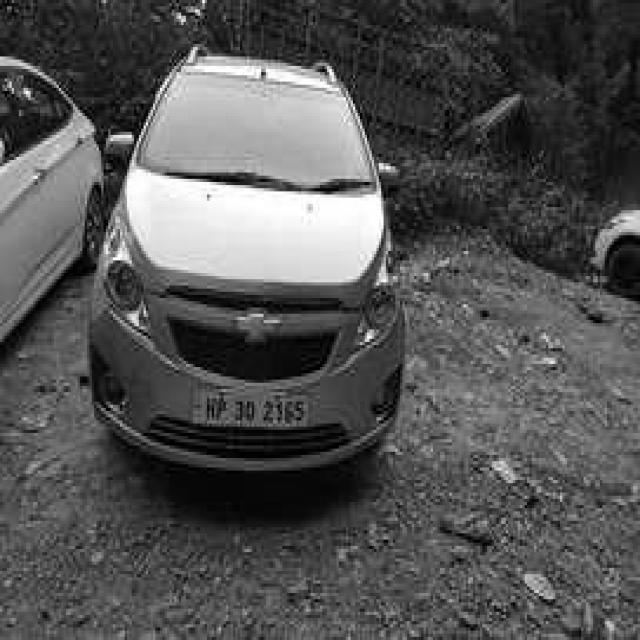car: (85, 44, 409, 471)
license-plate: (193, 383, 313, 433)
